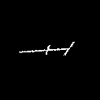double_crochet: (20, 42, 73, 54)
